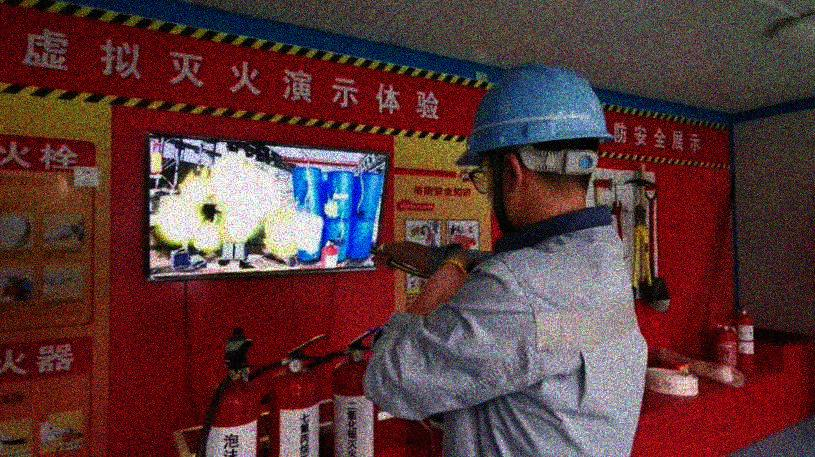helmet: (454, 60, 614, 237)
